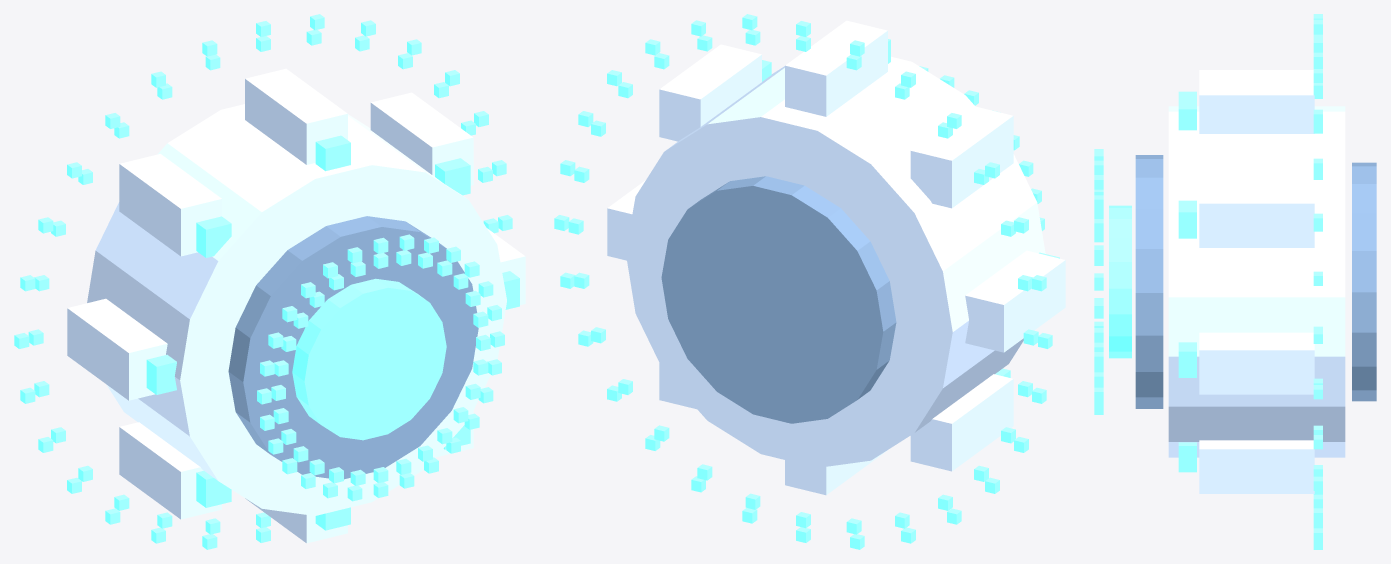
3 views of the same model, side by side, from view 1: azimuth 30°, elevation 25°; view 2: azimuth 150°, elevation 25°; view 3: azimuth 270°, elevation 25° (orthographic). The views are drawn at different scales.
Visible parts, largest first — view 1: core, front, shield_core, brace_3, brace_4, brace_2, brace_1, brace_5, brace_6, glow_3, glow_4, glow_2 (+3 smaller); view 2: core, rear, brace_4, brace_3, brace_2, brace_1, brace_5, brace_6, brace_0, brace_7; view 3: core, brace_1, front, brace_0, brace_2, brace_7, rear, shield_core, brace_3, glow_1, glow_0, glow_2 (+1 smaller).
Boxes of the visible parts, x1,y1,x2,y2 form: core: (87,104,506,515); front: (228,216,478,479); shield_core: (292,278,446,440); brace_3: (119,154,221,256); brace_4: (67,298,167,400); brace_2: (245,68,347,164); brace_1: (370,92,473,185); brace_5: (119,422,221,519); brace_6: (245,498,347,543); glow_3: (196,216,231,257); glow_4: (146,354,176,394); glow_2: (315,135,350,171); core: (625,56,1045,467); rear: (661,176,896,423); brace_4: (965,250,1065,352); brace_3: (910,105,1013,208); brace_2: (785,20,887,116); brace_1: (659,44,761,141); brace_5: (910,374,1013,471); brace_6: (785,450,887,495); brace_0: (607,180,645,260); brace_7: (659,363,696,409); core: (1168,106,1345,457); brace_1: (1199,184,1314,247); front: (1135,155,1163,408); brace_0: (1199,332,1314,394); brace_2: (1199,76,1314,133); brace_7: (1199,440,1314,493); rear: (1352,162,1376,401); shield_core: (1109,205,1131,358); brace_3: (1199,70,1313,76); glow_1: (1178,200,1196,238); glow_0: (1178,342,1196,377); glow_2: (1178,97,1196,130).
Size of the model in its own units: 3.47 by 3.47 by 1.84.
